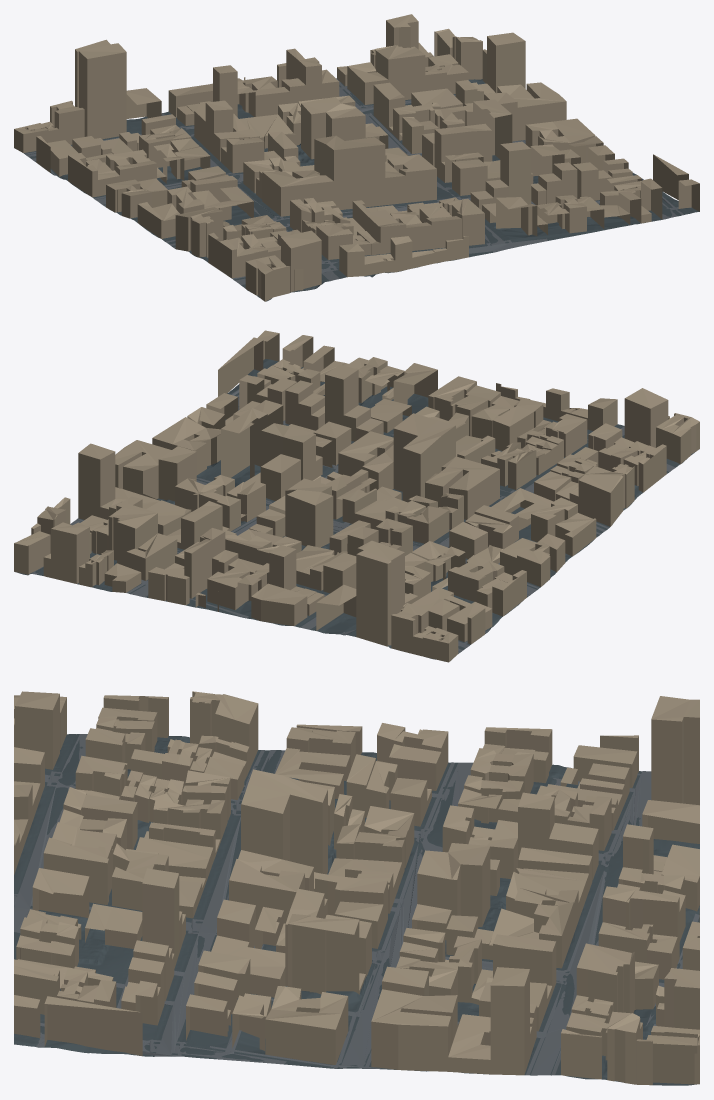
The model's file is epsg26910-1436-10891.lod0.glb.
The picture shows the model from 3 angles, top to bottom: view 1: azimuth 30°, elevation 25°; view 2: azimuth 150°, elevation 25°; view 3: azimuth 270°, elevation 25°; orthographic projection. The views are drawn at different scales.
Parts seen in each view (by area): view 1: epsg26910-1436-10891-lod0; view 2: epsg26910-1436-10891-lod0; view 3: epsg26910-1436-10891-lod0.
Part boxes in pixels (x1=…): epsg26910-1436-10891-lod0: x1=14, y1=14, x2=699, y2=301; epsg26910-1436-10891-lod0: x1=14, y1=330, x2=699, y2=662; epsg26910-1436-10891-lod0: x1=14, y1=691, x2=699, y2=1085.
Size of the model in its own units: 384 by 86.33 by 384.
